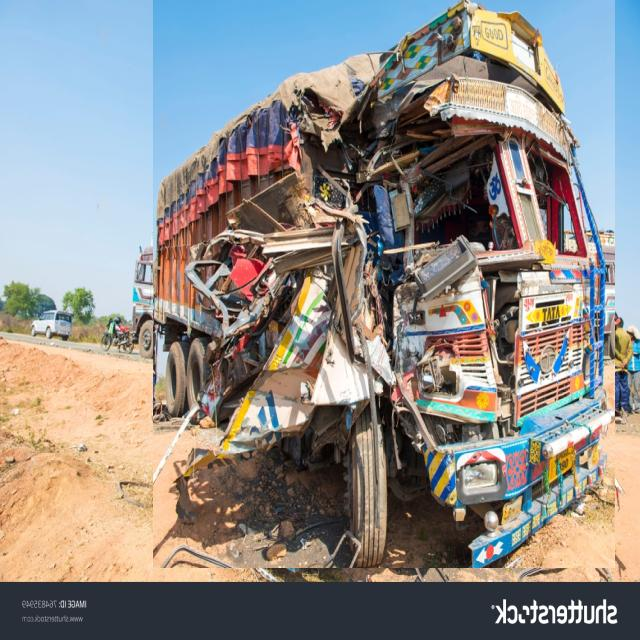accident: (153, 0, 614, 568)
